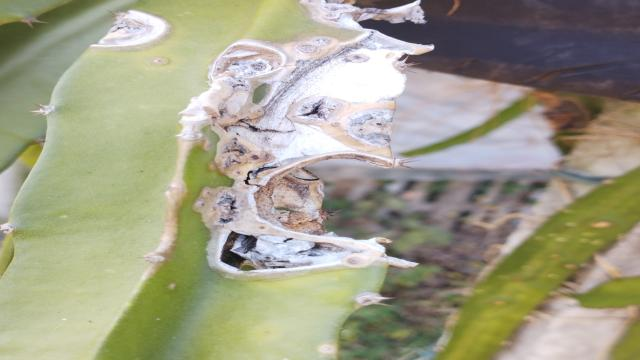stemcanker: (142, 50, 182, 70)
